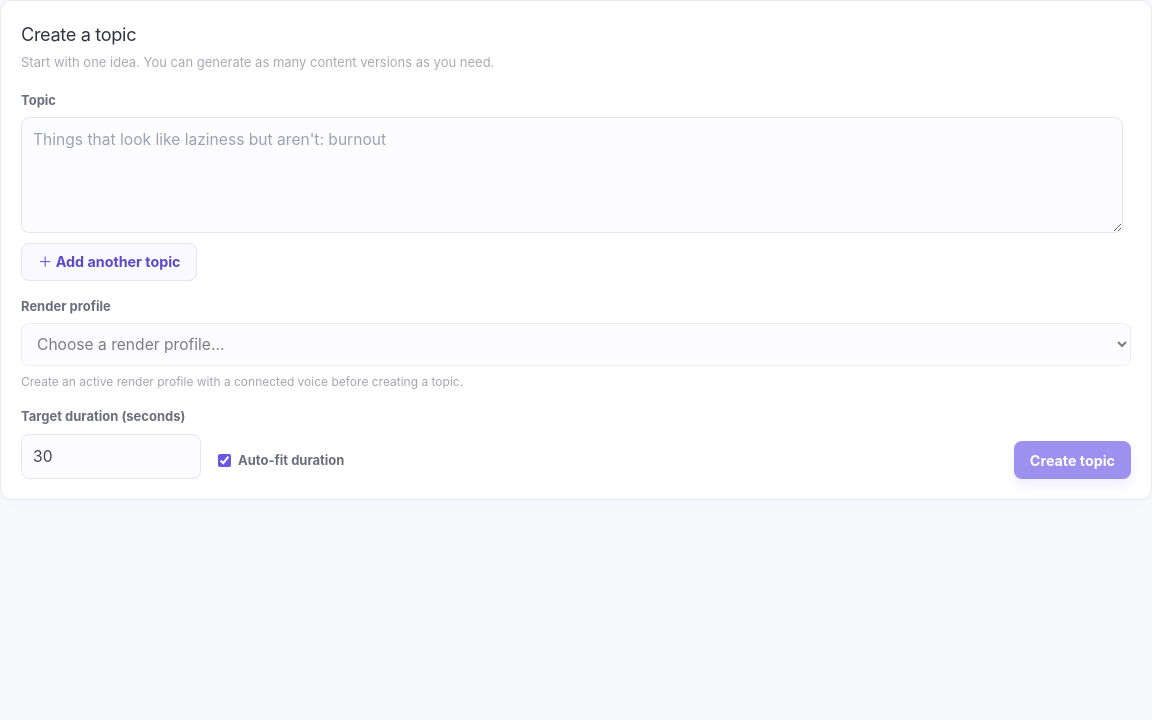
Test: create topic form › normalizes a topic and persists the selected profile
Type " First topic " into the text box labelled "Topic". click: x=572, y=175
box: [21,117,1123,233]
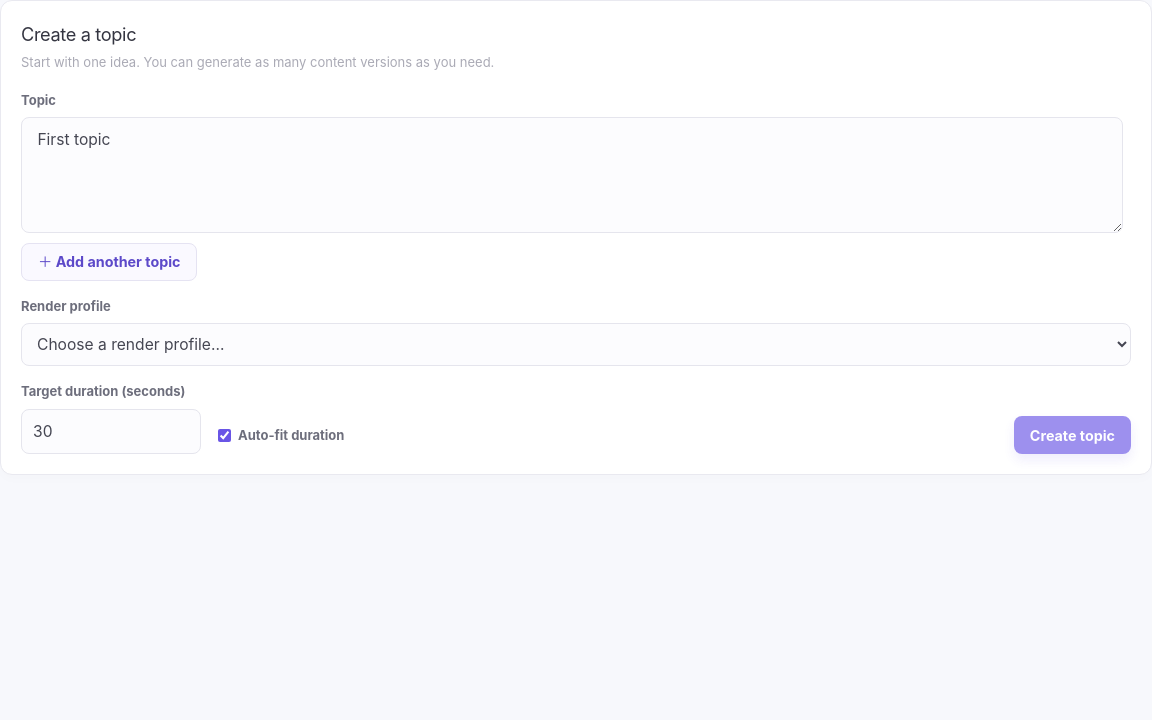
Select "Elena Shelf" in the dropdown labelled "Render profile". click: x=576, y=345
box: [21,323,1131,366]
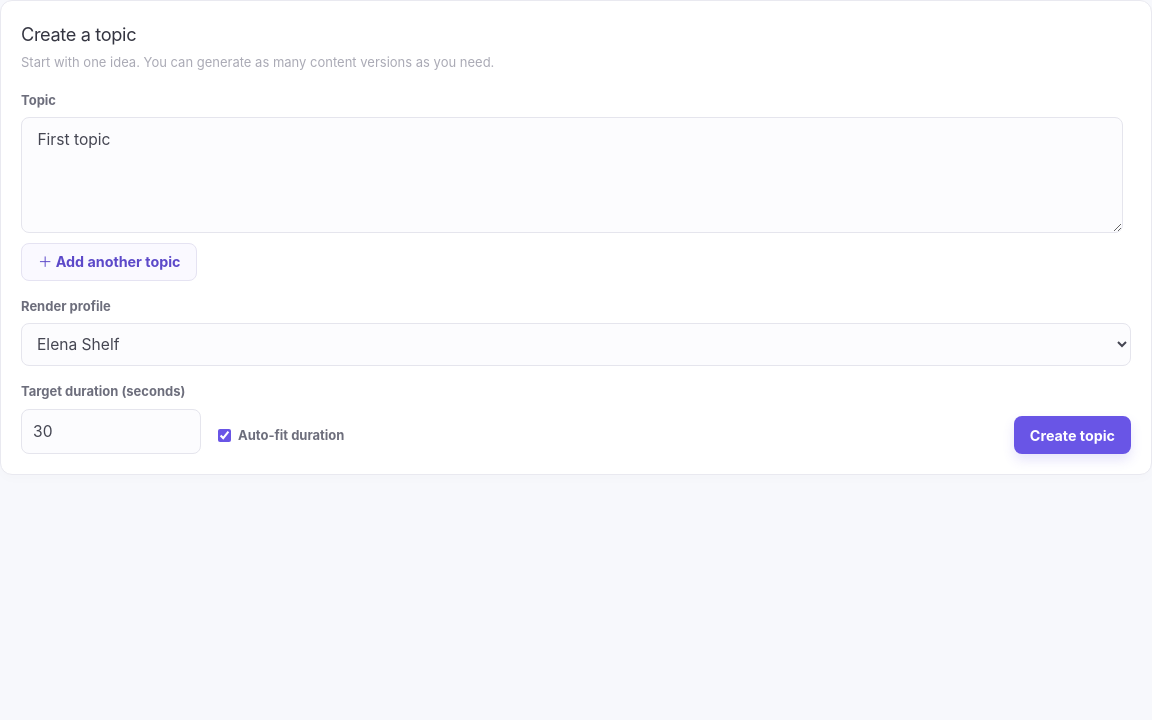
Click the button "Create topic". click: x=1072, y=435
box: [1014,416,1131,454]
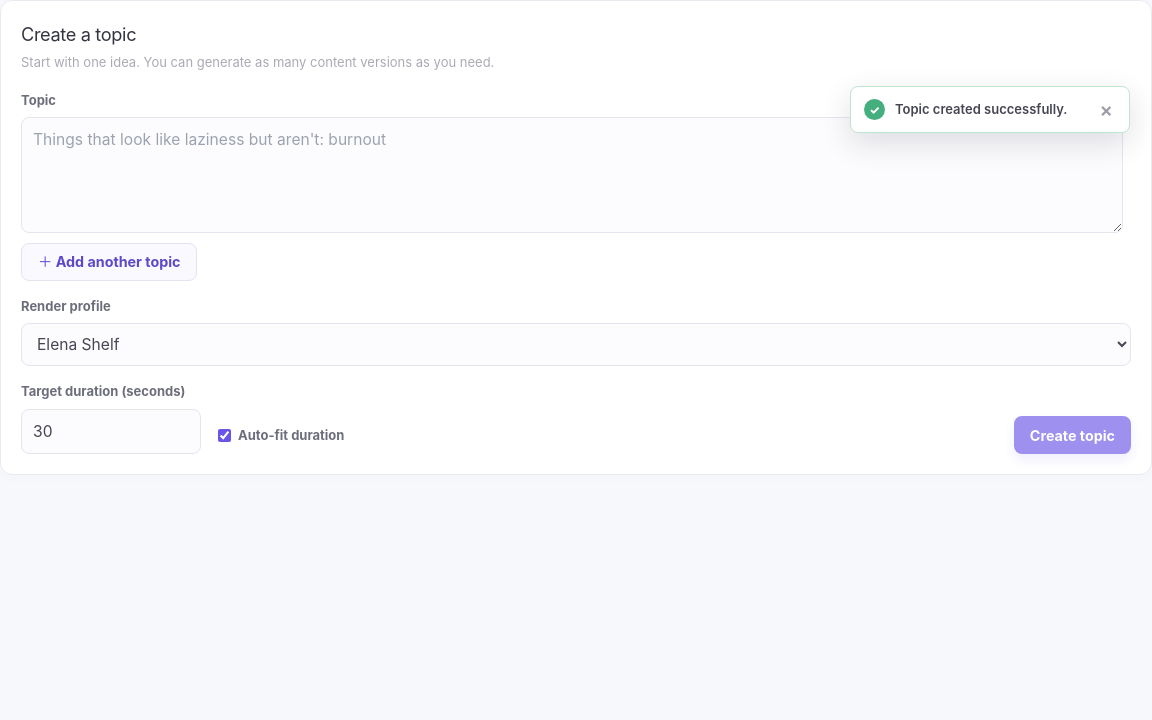
Expected: the text "Topic created successfully." is shown, [895,100,1068,119]
